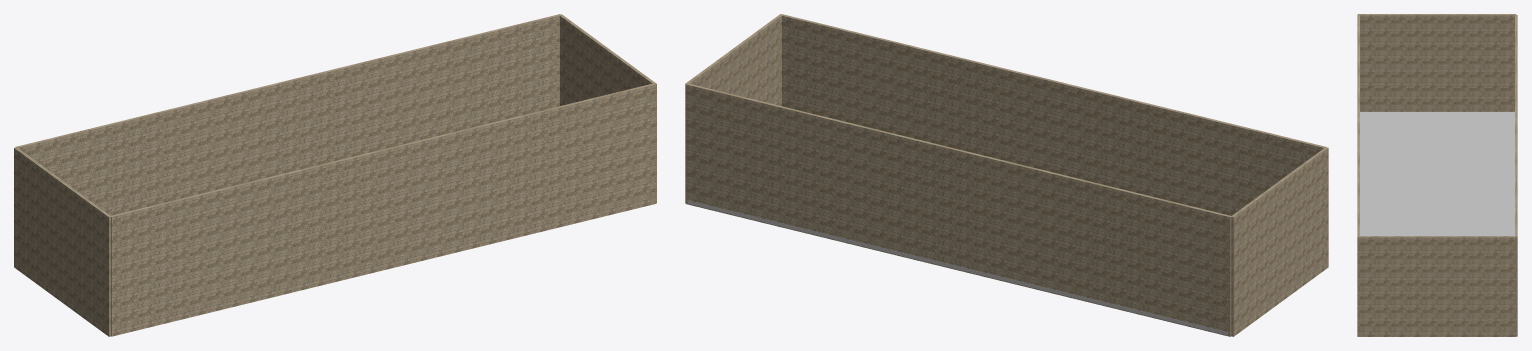
3 views of the same model, side by side, from view 1: azimuth 30°, elevation 25°; view 2: azimuth 150°, elevation 25°; view 3: azimuth 270°, elevation 25° (orthographic). The views are drawn at different scales.
Visible parts, largest first — view 1: 立方体.001, 立方体.005, 立方体.002, 立方体.003; view 2: 立方体.005, 立方体.001, 立方体.002, 立方体.003, 立方体; view 3: 立方体, 立方体.003, 立方体.002, 立方体.005, 立方体.001.
Boxes of the visible parts, x1=… form: 立方体.001: x1=111, y1=83, x2=656, y2=336; 立方体.005: x1=15, y1=14, x2=560, y2=215; 立方体.002: x1=14, y1=147, x2=111, y2=336; 立方体.003: x1=560, y1=14, x2=656, y2=203; 立方体.005: x1=685, y1=83, x2=1231, y2=336; 立方体.001: x1=781, y1=14, x2=1326, y2=215; 立方体.002: x1=1231, y1=147, x2=1328, y2=336; 立方体.003: x1=685, y1=14, x2=781, y2=202; 立方体: x1=687, y1=200, x2=1228, y2=335; 立方体: x1=1360, y1=112, x2=1514, y2=235; 立方体.003: x1=1357, y1=236, x2=1516, y2=336; 立方体.002: x1=1357, y1=14, x2=1516, y2=111; 立方体.005: x1=1515, y1=15, x2=1517, y2=336; 立方体.001: x1=1357, y1=15, x2=1359, y2=336.
Size of the model in its own units: 5345 by 1114 by 1625.
